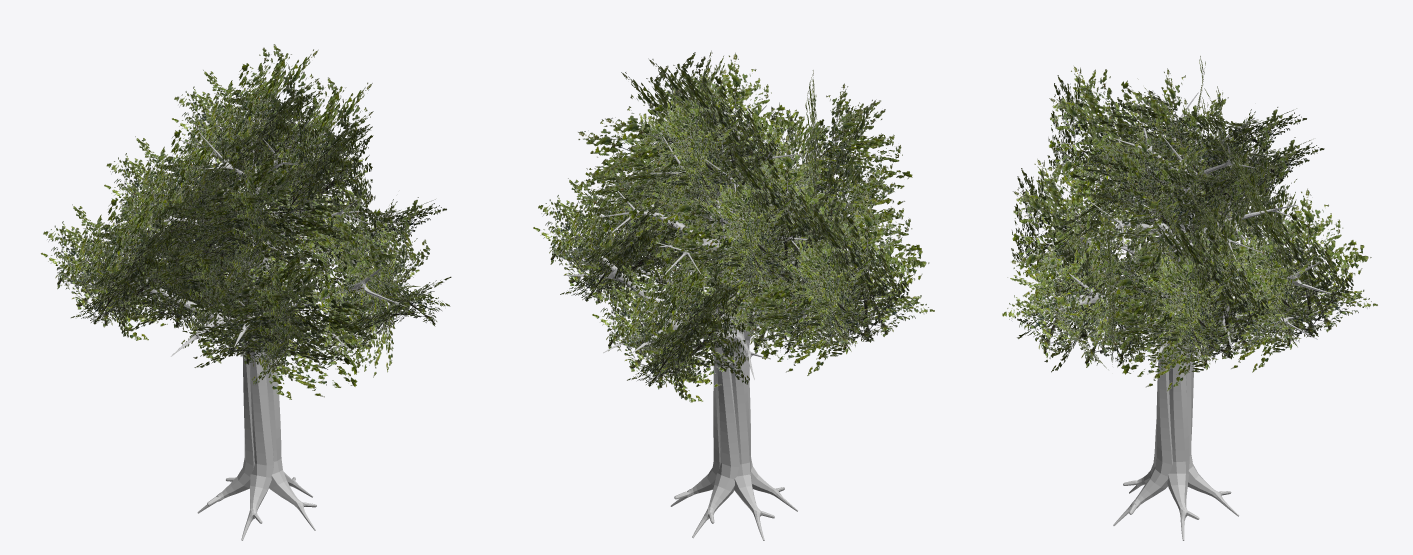
Rendered from Tree_5.fbx.
3 renders of one model, left to right at view 1: azimuth 30°, elevation 25°; view 2: azimuth 150°, elevation 25°; view 3: azimuth 270°, elevation 25°, orthographic. The views are drawn at different scales.
Visible parts, largest first — view 1: Tree_5_Leaves, Tree_5_Trunk; view 2: Tree_5_Leaves, Tree_5_Trunk; view 3: Tree_5_Leaves, Tree_5_Trunk.
Part boxes in pixels (<box>): Tree_5_Leaves: <box>40,44,451,399</box>; Tree_5_Trunk: <box>96,101,408,540</box>; Tree_5_Leaves: <box>533,50,934,402</box>; Tree_5_Trunk: <box>563,105,881,540</box>; Tree_5_Leaves: <box>1002,56,1377,391</box>; Tree_5_Trunk: <box>1025,92,1347,540</box>.
Bounding box in the file's own units: 469 × 535 × 397.
